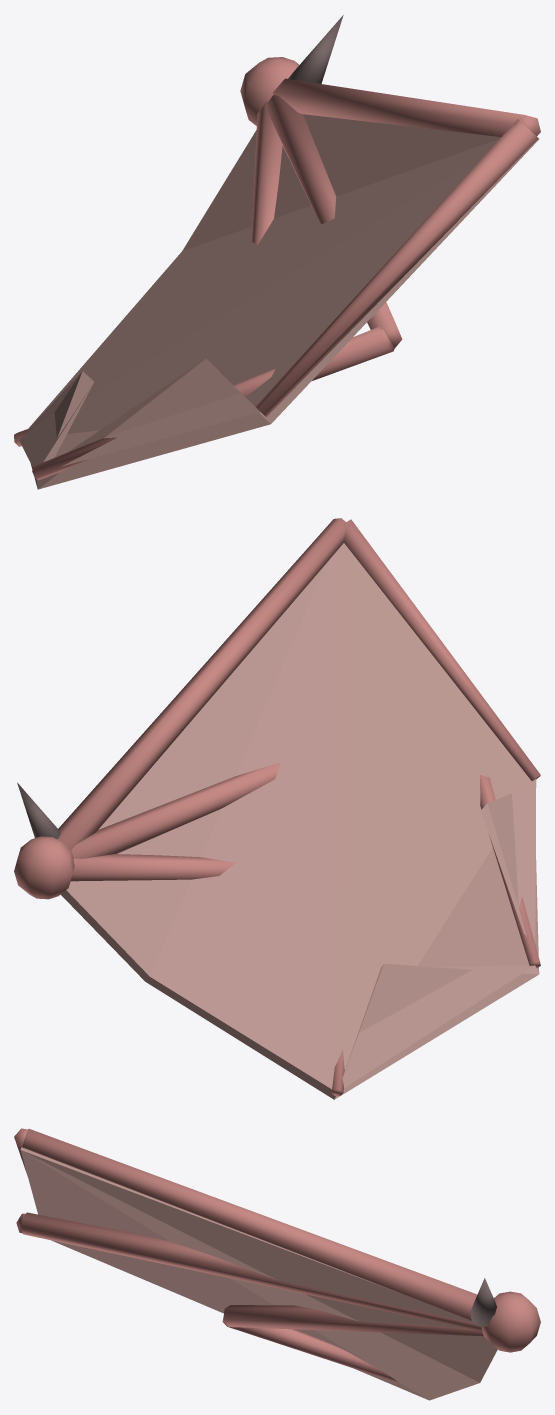
Rendered from bat_wing_out_R.glb.
3 renders of one model, top to bottom at view 1: azimuth 30°, elevation 25°; view 2: azimuth 150°, elevation 25°; view 3: azimuth 270°, elevation 25°, orthographic. The views are drawn at different scales.
Visible parts, largest first — view 1: bat_wing_out_R; view 2: bat_wing_out_R; view 3: bat_wing_out_R.
Boxes of the visible parts, x1,y1,x2,y2 form: bat_wing_out_R: [14, 15, 540, 489]; bat_wing_out_R: [14, 518, 540, 1099]; bat_wing_out_R: [14, 1128, 540, 1400].
Bounding box in the file's own units: 0.8483 × 0.7913 × 1.03.
